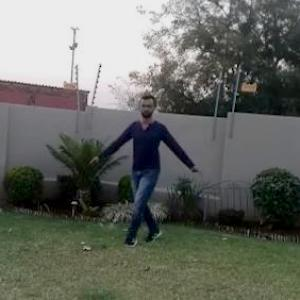land: (100, 101, 203, 237)
